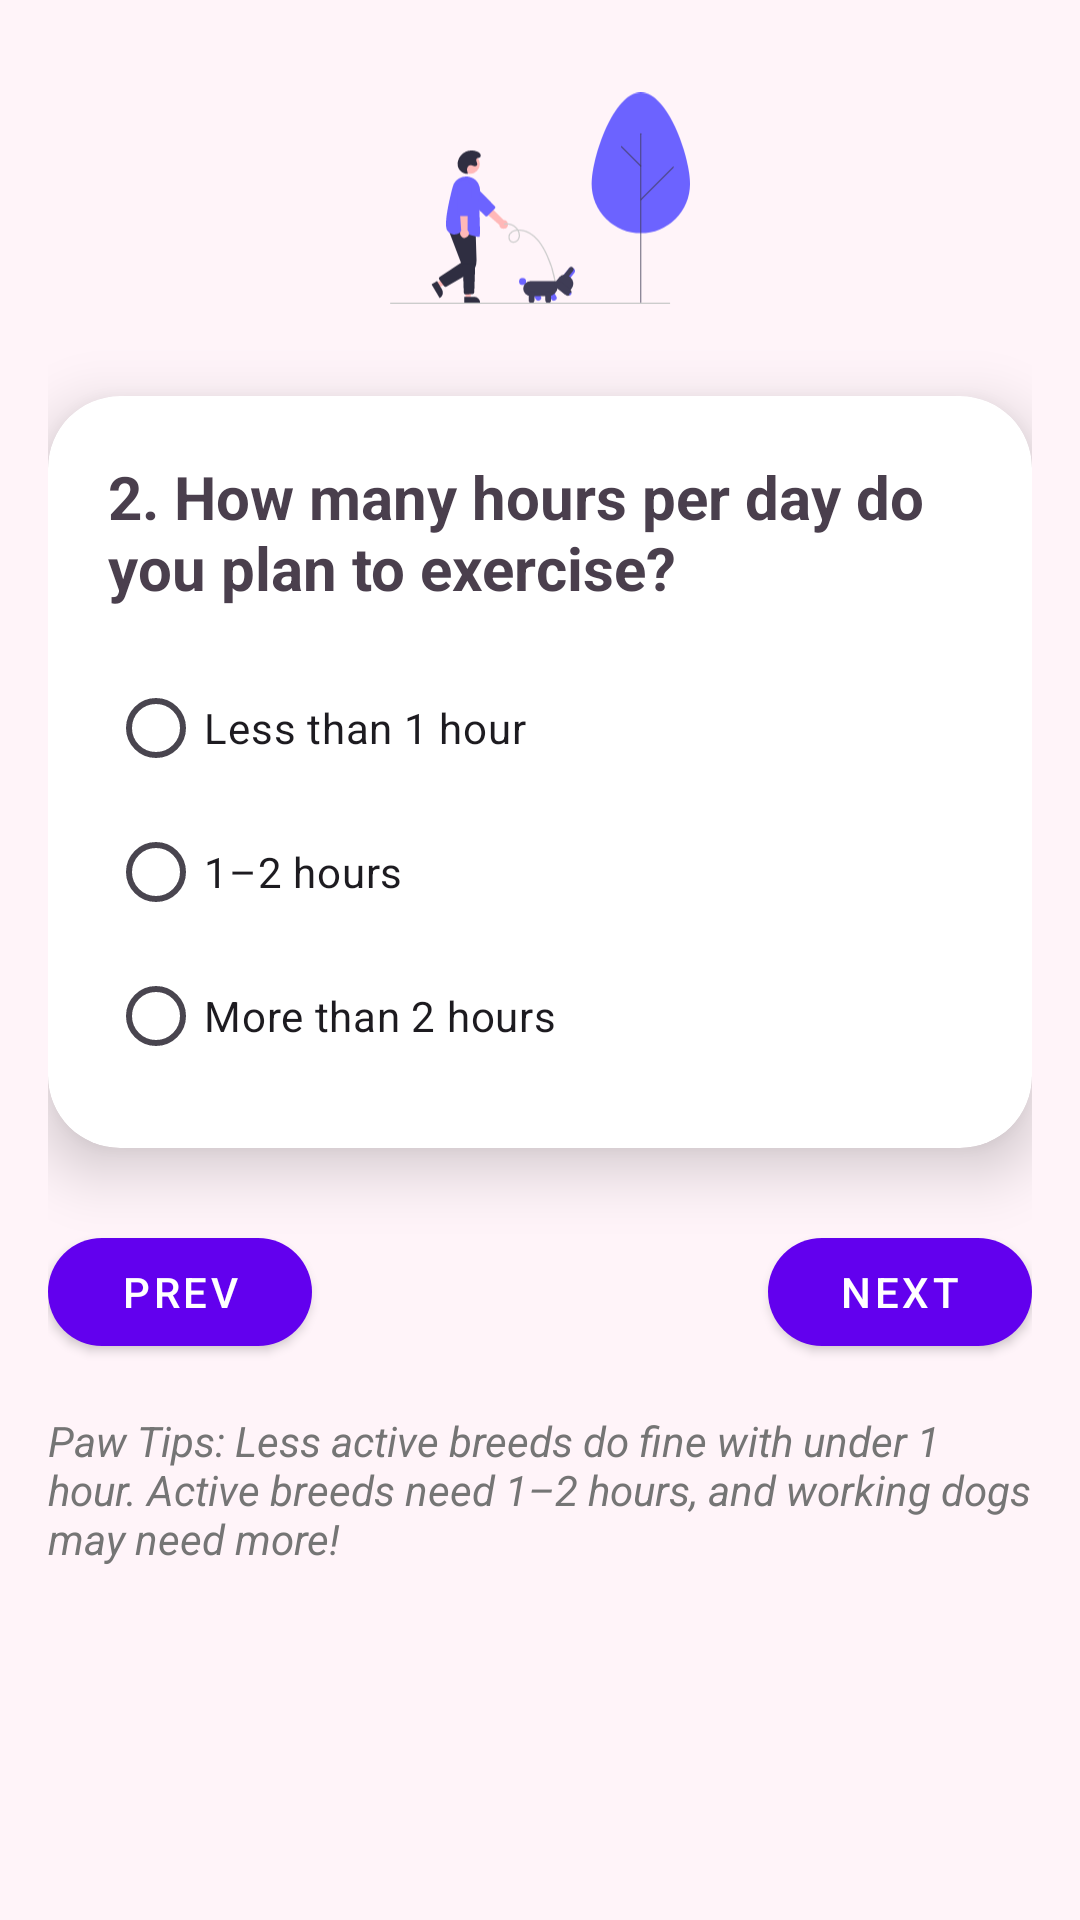

Where icons sit on this 1080px x 1920px app screen, as (x1, y1, x2, y2):
dogwalking: (390, 92, 690, 304)
